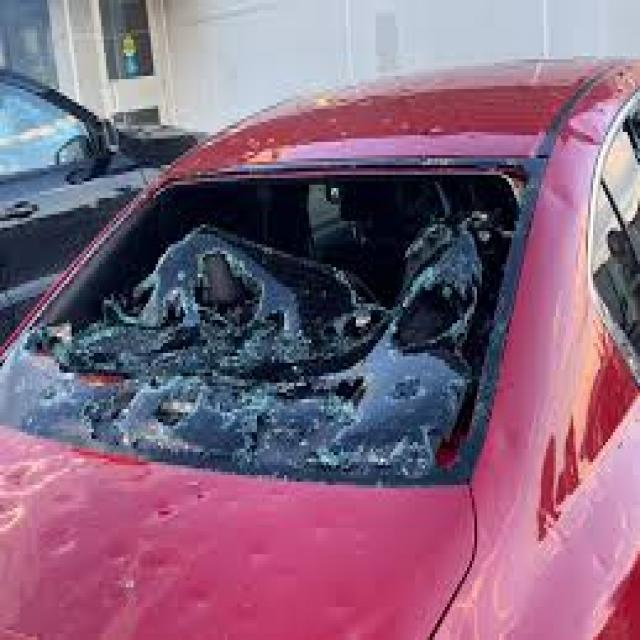moderate: (37, 138, 529, 569)
